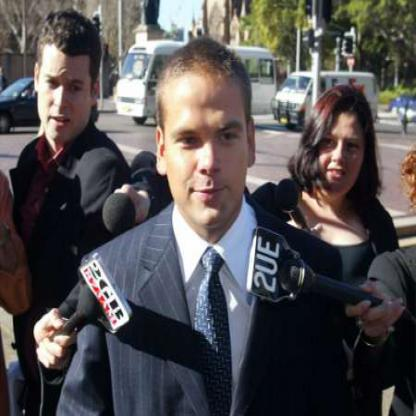face: (164, 45, 251, 228), (39, 20, 97, 144), (317, 90, 370, 196)
